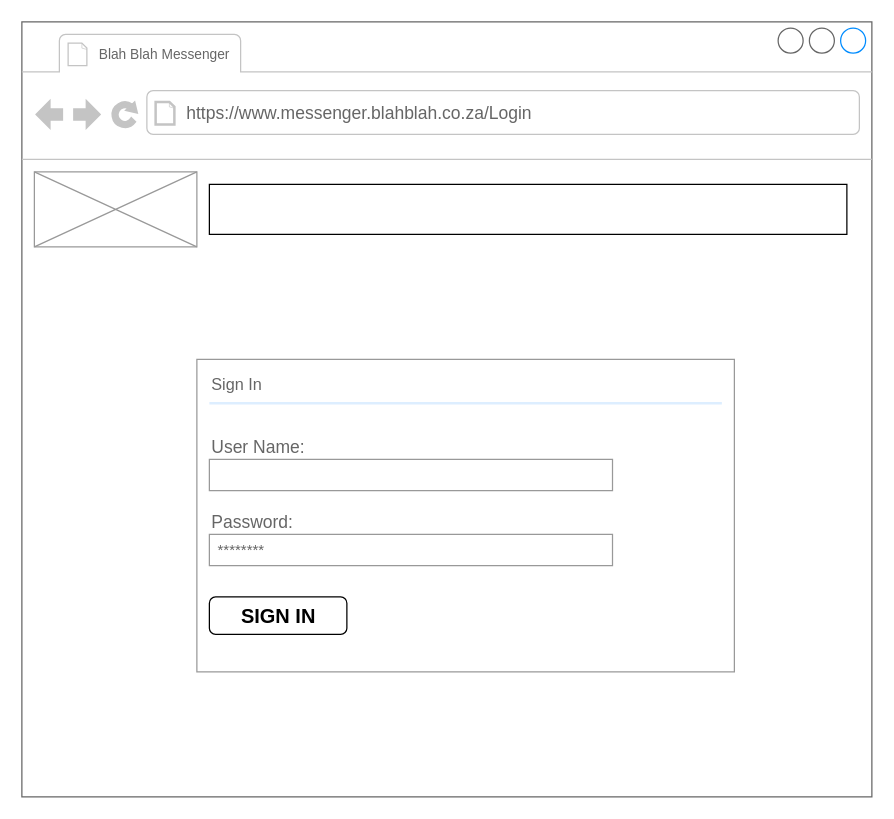
This 894x819 diagram has some shape labels left out. Each missing label, with the box of its shape:
Icon: (33, 171, 197, 247)
Title: (208, 183, 847, 234)
